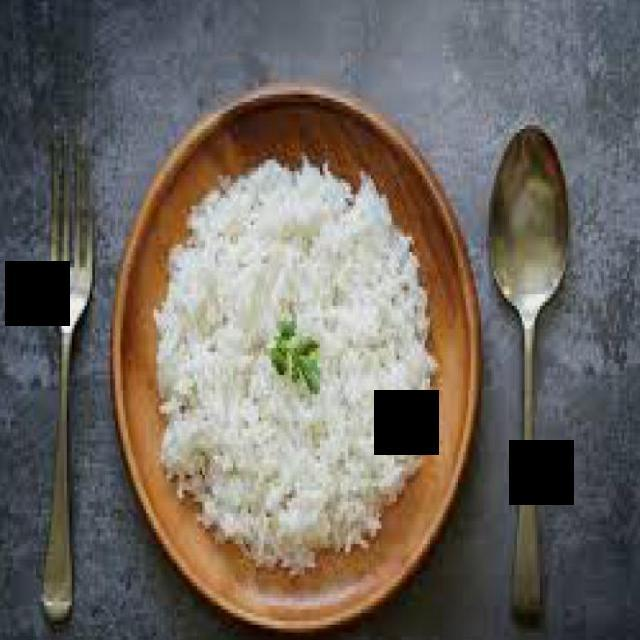rice: (158, 158, 435, 579)
